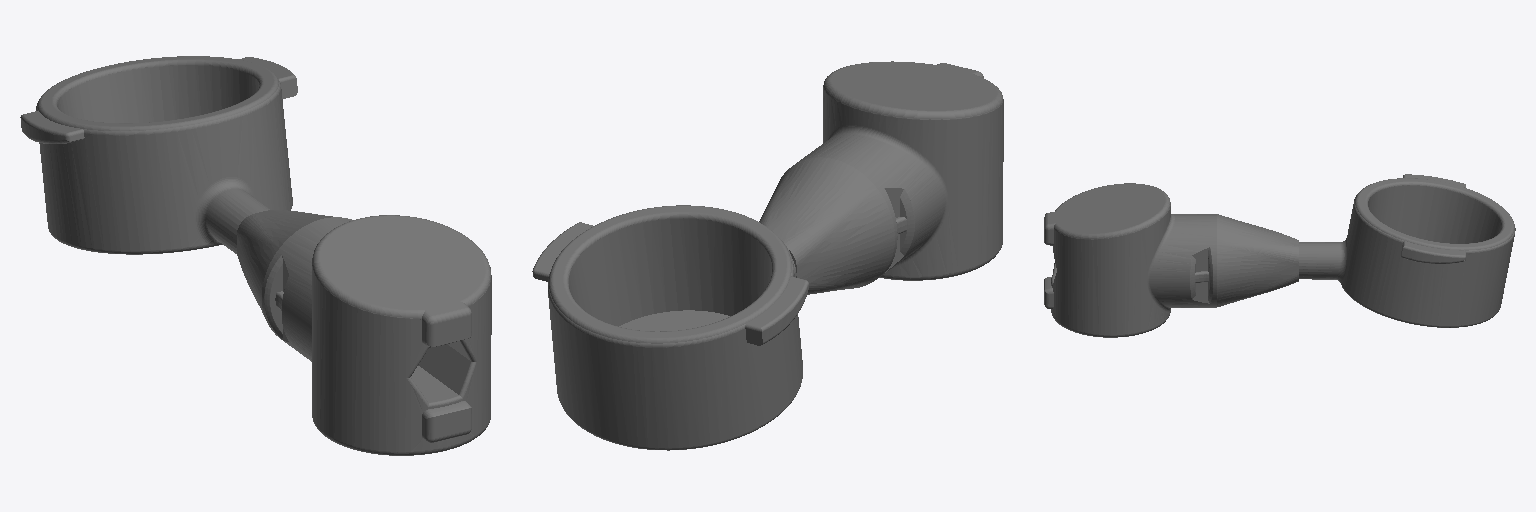
robot.urdf — portafilter_tool:
<?xml version="1.0"?>
<robot name="portafilter_tool" xmlns:xacro="http://www.ros.org/wiki/xacro">

  <!-- Main body of the tool with STL geometry -->
  <link name="tool_body">
    <visual>
      <geometry>
        <mesh filename="package://pickn_place/physical_things/mesh/portafilter.STL" scale="0.001 0.001 0.001"/>
      </geometry>
      <material name="gray">
        <color rgba="0.5 0.5 0.5 1"/>
      </material>
    </visual>
  </link>
  
  <!-- Internal Frame 1 -->
  <link name="aruco_link" />
  <joint name="aruco_joint" type="fixed">
    <parent link="tool_body"/>
    <child link="aruco_link"/>
    <origin xyz="0.0 0 0" rpy="0 0 0"/>
  </joint>

  <!-- Internal Frame 2 -->
  <link name="pick_link" />
  <joint name="pick_joint" type="fixed">
    <parent link="tool_body"/>
    <child link="pick_link"/>
    <origin xyz="0.1 0 0" rpy="0 0 0"/>
  </joint>

  <!-- Internal Frame 3 -->
  <link name="prepick_link" />
  <joint name="prepick_joint" type="fixed">
    <parent link="tool_body"/>
    <child link="prepick_link"/>
    <origin xyz="-0.1 0 0" rpy="0 0 0"/>
  </joint>

</robot>

--- What the picture shows (computed from the rendered views, not written in the file) ---
Views: 3 orthographic renders of the robot side by side, from view 1: azimuth 30°, elevation 25°; view 2: azimuth 150°, elevation 25°; view 3: azimuth 270°, elevation 25°.
Robot: portafilter_tool — 4 links, 3 joints (3 fixed); root link tool_body; default pose: every joint at zero.
Visible links, largest first — view 1: tool_body; view 2: tool_body; view 3: tool_body.
Link boxes in pixels (left/top/right/bottom): tool_body: left=20, top=56, right=491, bottom=455; tool_body: left=532, top=61, right=1003, bottom=450; tool_body: left=1044, top=174, right=1515, bottom=337.
Bounding box of the posed robot: 0.08 × 0.2006 × 0.0536 m (x, y, z).
1 mesh visuals loaded from 1 distinct referenced files (1 binary STL).
